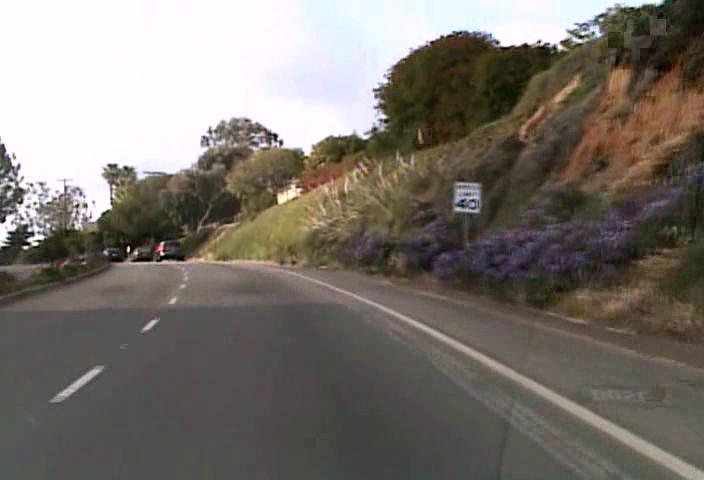speedLimit40: (451, 180, 482, 214)
